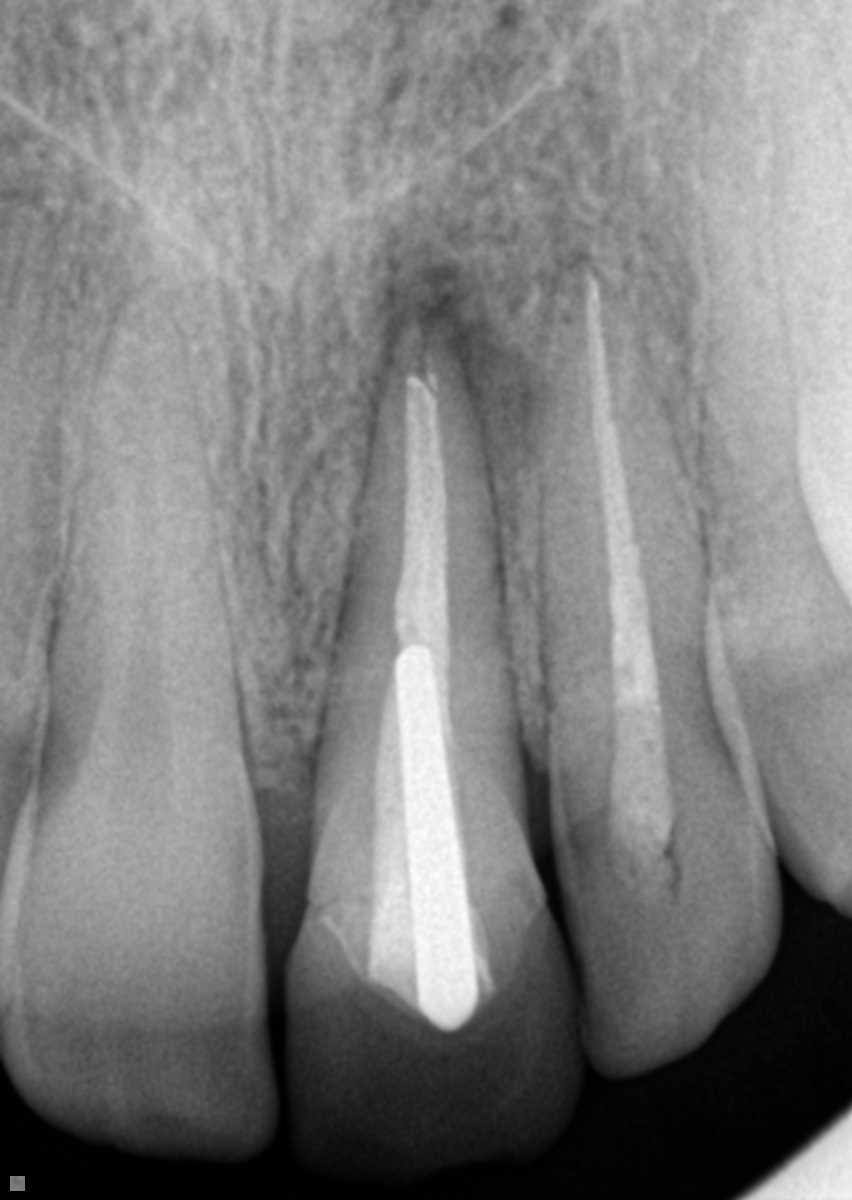Apical Lesion: (346, 248, 532, 509)
Main Canal: (108, 313, 176, 816)
Main Root: (38, 285, 250, 818), (310, 316, 531, 813), (538, 257, 732, 731), (696, 55, 852, 623)
Root Canal Filling: (585, 273, 657, 710), (396, 372, 451, 669)
